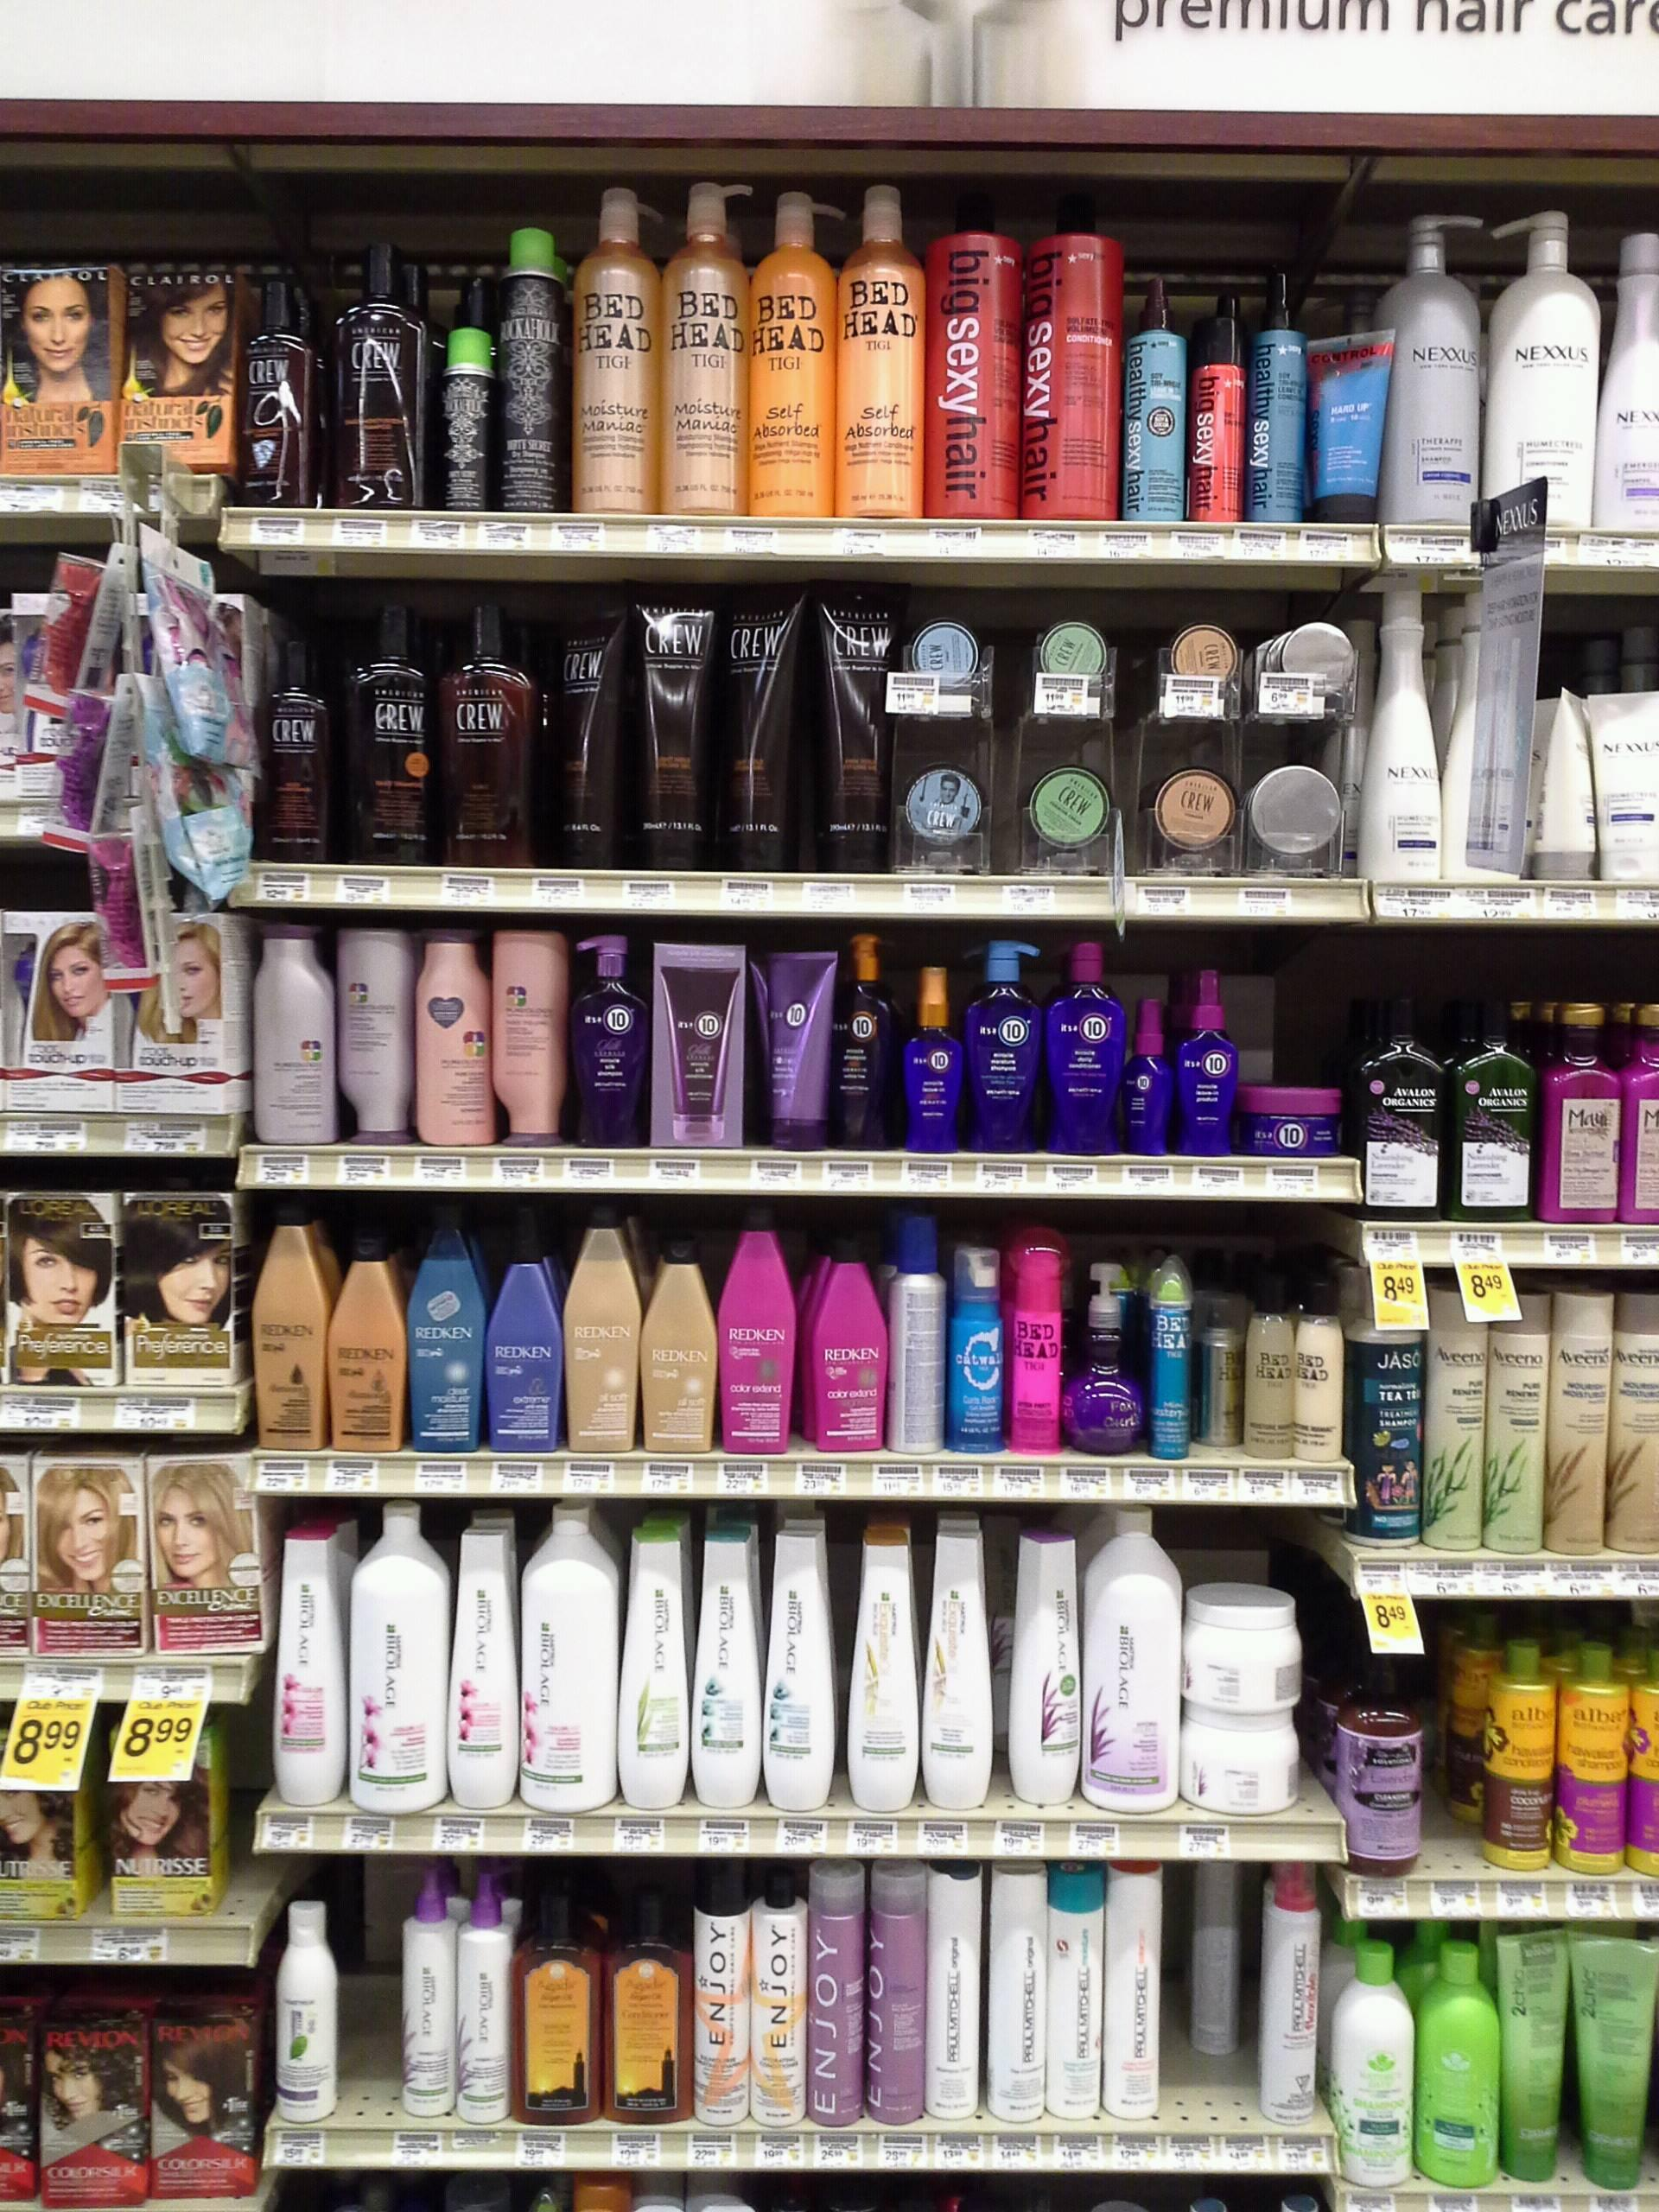misalignment: (549, 587, 620, 859), (1530, 697, 1600, 887), (1187, 1851, 1236, 2073), (1199, 1324, 1248, 1446)
